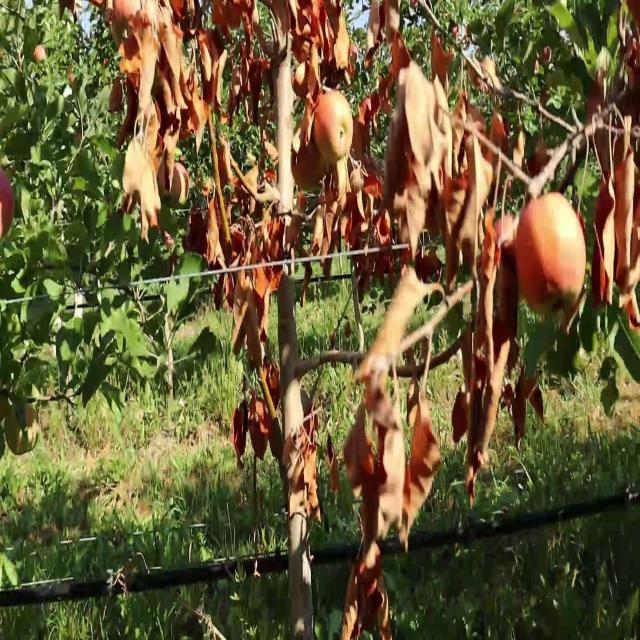apple: (464, 135, 499, 212), (316, 95, 352, 167), (488, 277, 519, 354), (156, 49, 188, 114), (352, 412, 384, 469), (364, 348, 391, 411), (292, 142, 323, 196), (412, 405, 439, 462), (588, 248, 611, 311), (516, 135, 548, 180), (112, 78, 140, 126), (332, 42, 359, 91), (8, 412, 36, 455), (256, 7, 280, 57), (252, 398, 276, 446), (252, 7, 275, 55), (184, 213, 208, 258), (596, 184, 615, 240), (452, 391, 471, 446), (216, 142, 239, 187), (0, 170, 16, 233), (200, 28, 224, 69), (296, 0, 323, 36), (308, 42, 331, 84), (432, 35, 453, 80), (256, 398, 279, 439), (292, 65, 316, 103), (500, 213, 518, 261), (492, 113, 512, 156), (176, 71, 196, 112), (620, 35, 640, 76), (248, 327, 267, 370), (348, 456, 372, 489), (212, 277, 235, 311), (392, 35, 411, 76), (428, 199, 447, 240), (272, 0, 293, 37), (352, 120, 370, 162), (408, 199, 427, 238), (112, 7, 132, 44), (376, 398, 399, 430), (188, 213, 208, 249), (236, 270, 254, 308), (324, 0, 342, 36), (486, 209, 504, 245), (268, 227, 285, 265), (172, 1, 191, 34), (136, 1, 156, 32), (204, 71, 219, 112), (120, 58, 142, 85), (292, 35, 311, 66), (284, 220, 303, 251), (296, 7, 314, 39), (384, 7, 400, 43), (112, 7, 133, 34), (192, 99, 210, 130), (244, 300, 259, 336), (228, 0, 247, 28), (132, 7, 155, 30), (156, 7, 171, 41), (232, 405, 248, 436), (212, 1, 229, 30), (116, 122, 133, 151), (360, 455, 376, 485), (344, 433, 359, 464), (252, 433, 268, 462), (172, 0, 187, 28), (232, 433, 248, 459), (232, 327, 246, 356), (124, 35, 140, 60), (120, 191, 134, 219), (468, 63, 483, 89), (628, 0, 640, 28), (60, 0, 76, 20), (272, 433, 283, 460), (105, 7, 117, 27), (36, 49, 48, 66)
